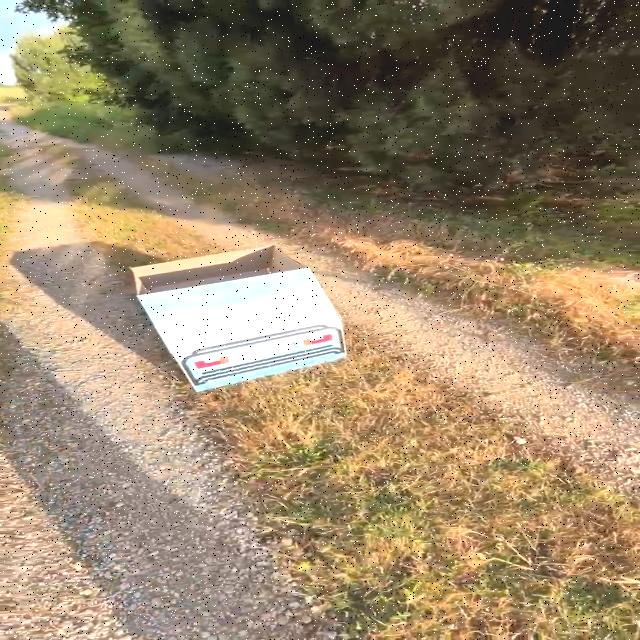blue_car: (89, 222, 393, 428)
